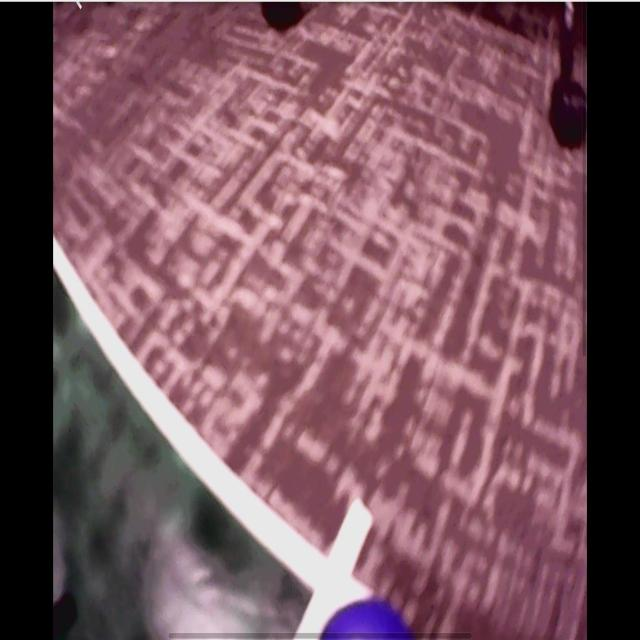ball: (322, 599, 417, 640)
